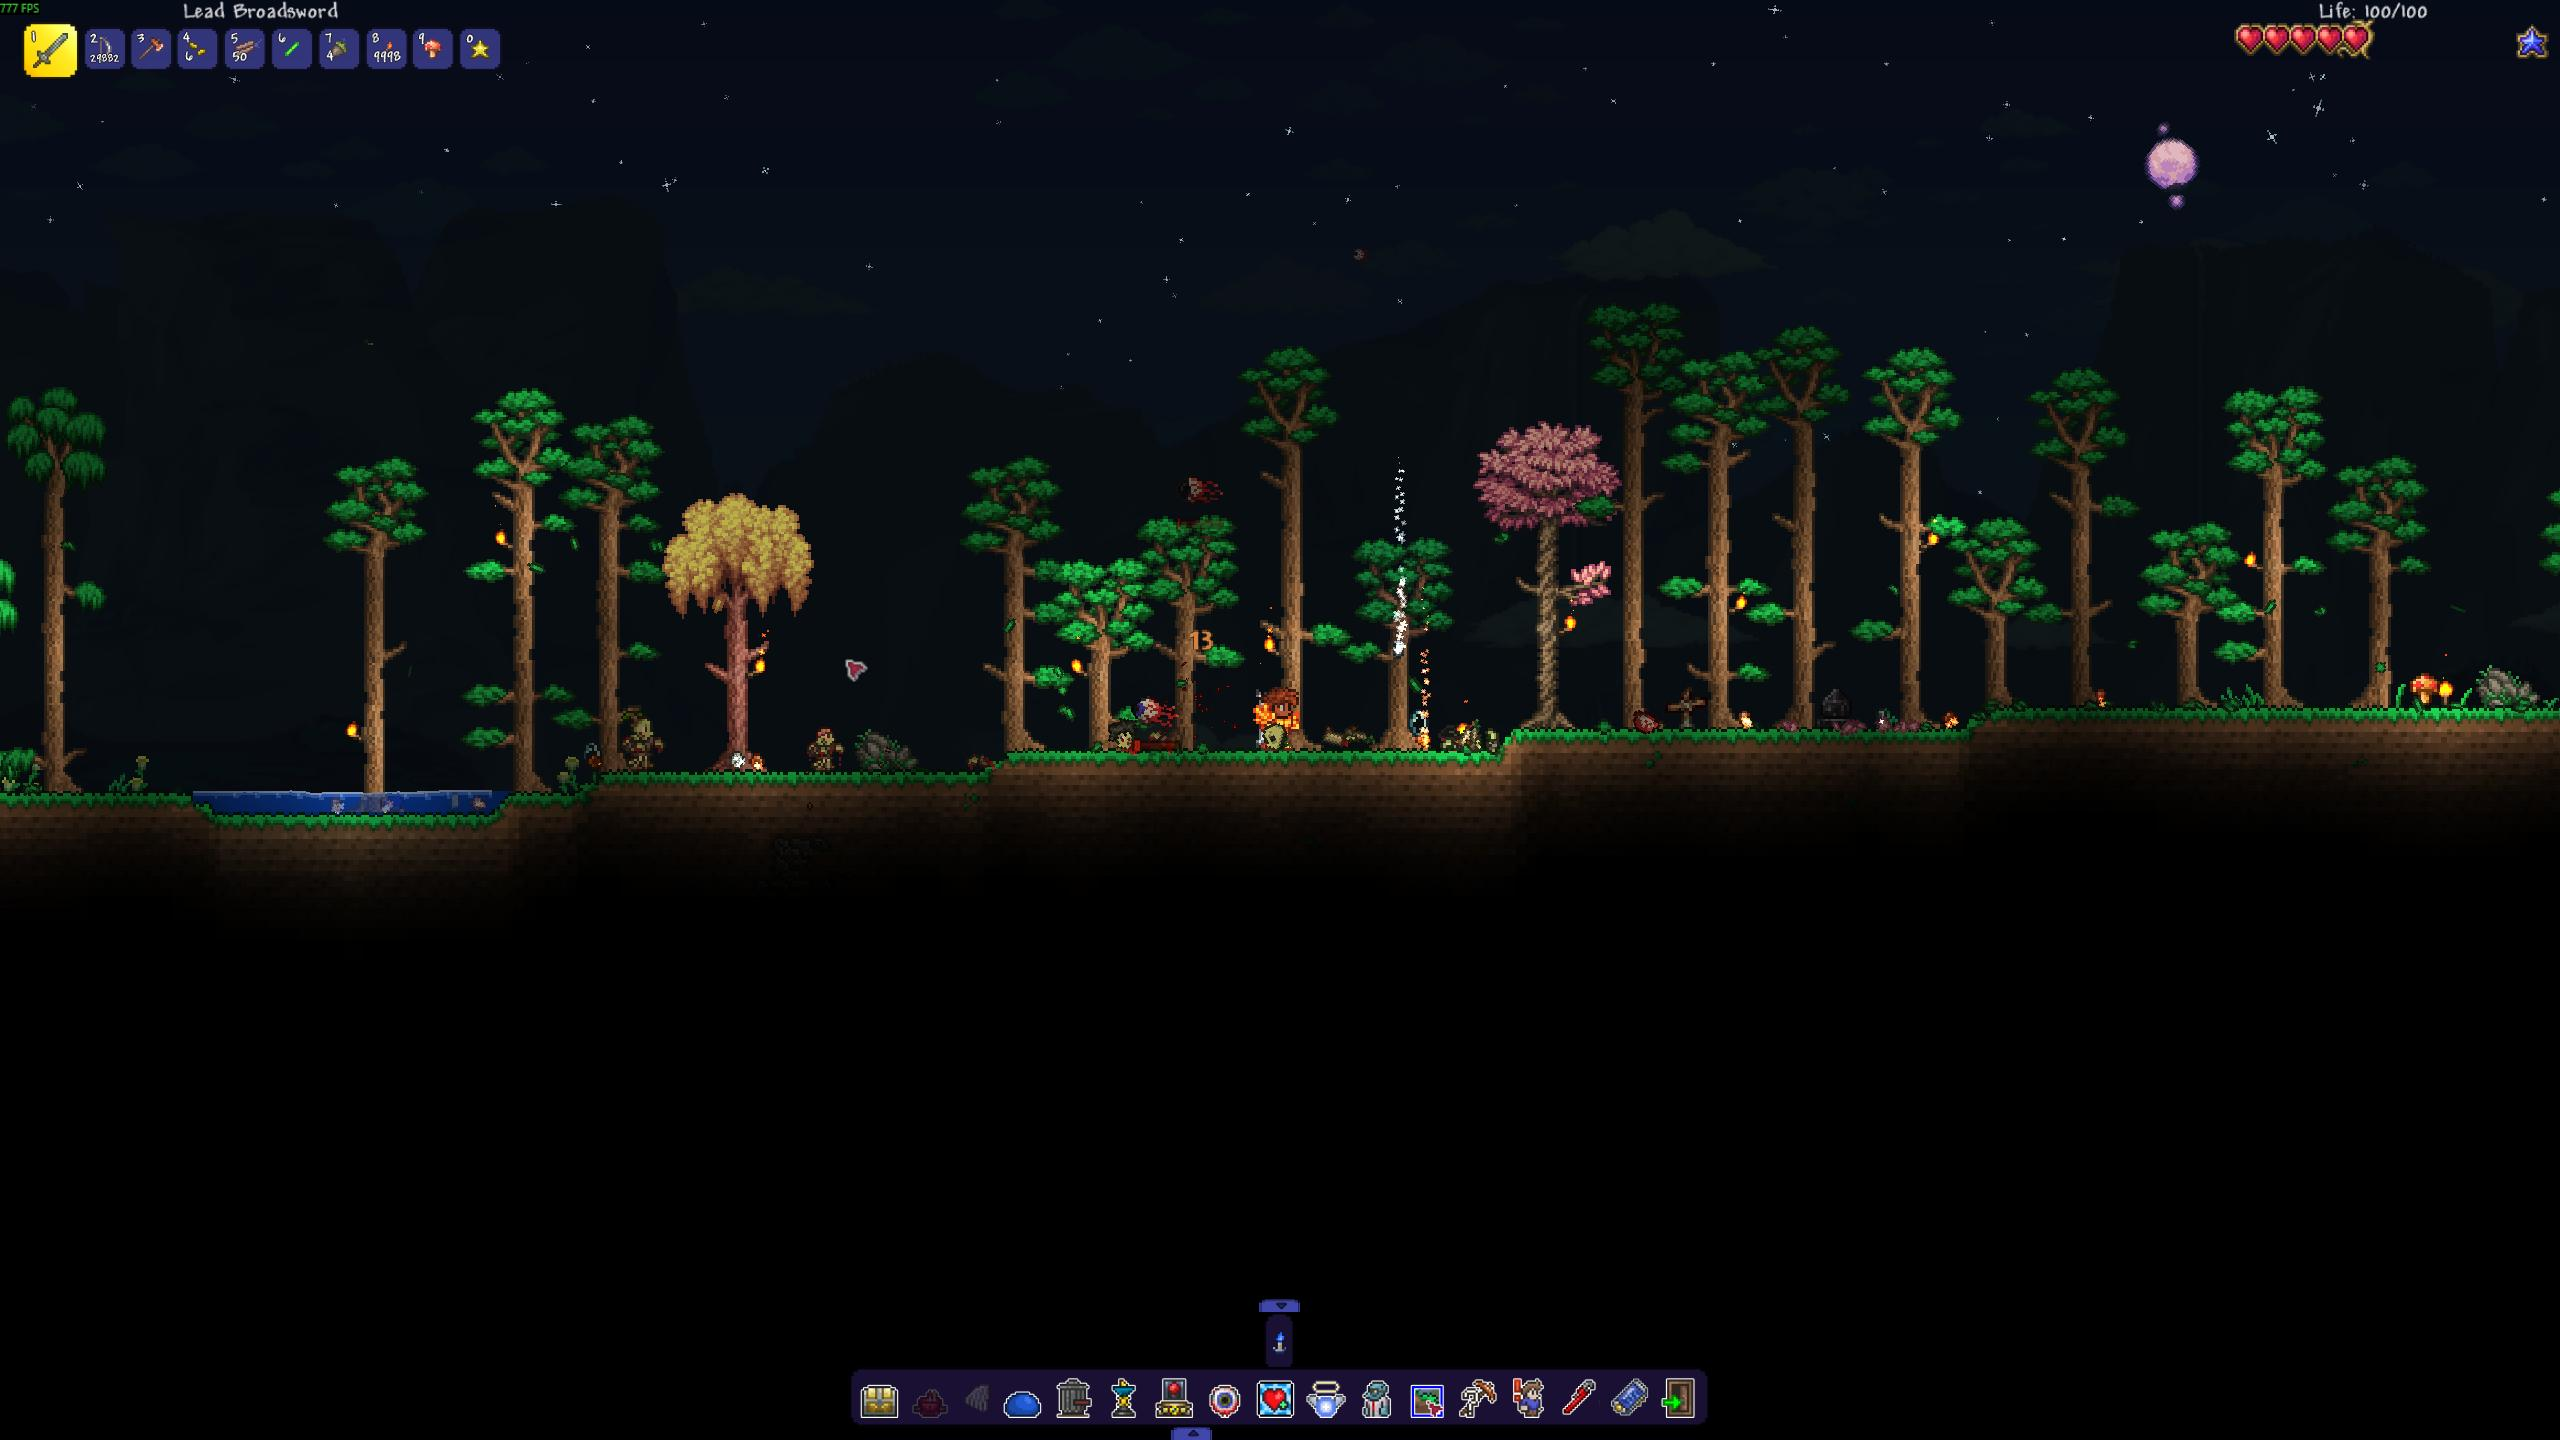Demon Eye: (1171, 466, 1229, 510), (1131, 693, 1182, 733)
Zombie: (612, 707, 668, 770), (804, 716, 847, 772)
